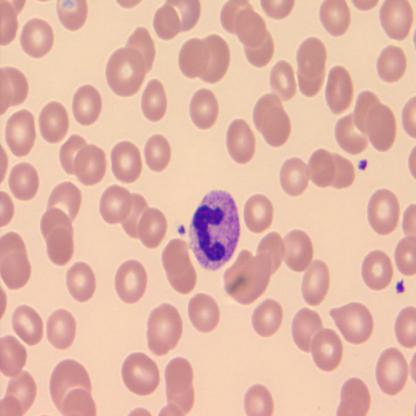Segmented neutrophil: (186, 187, 240, 270)
